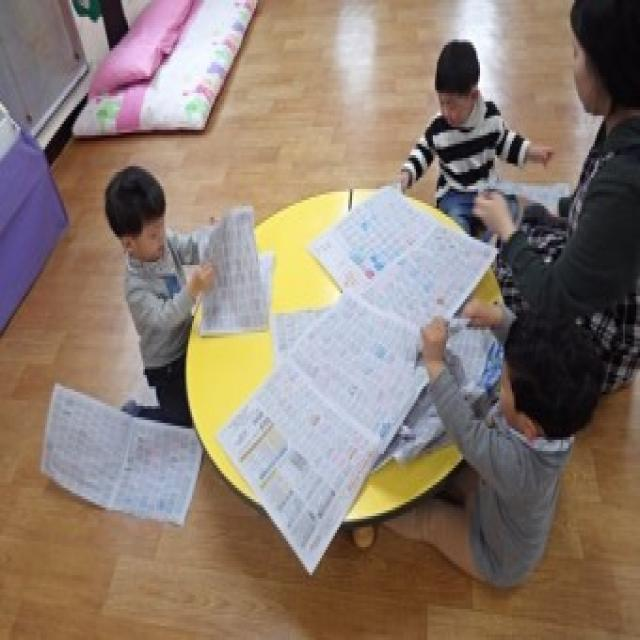Newspaper: (212, 178, 498, 581), (38, 385, 207, 526)
